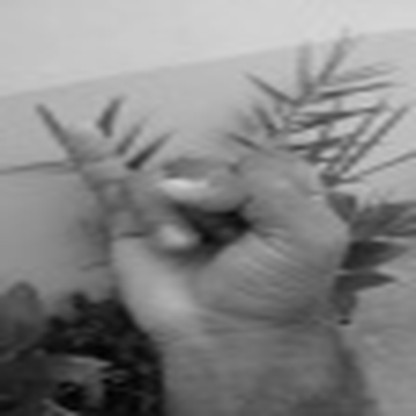i: (64, 112, 352, 332)
